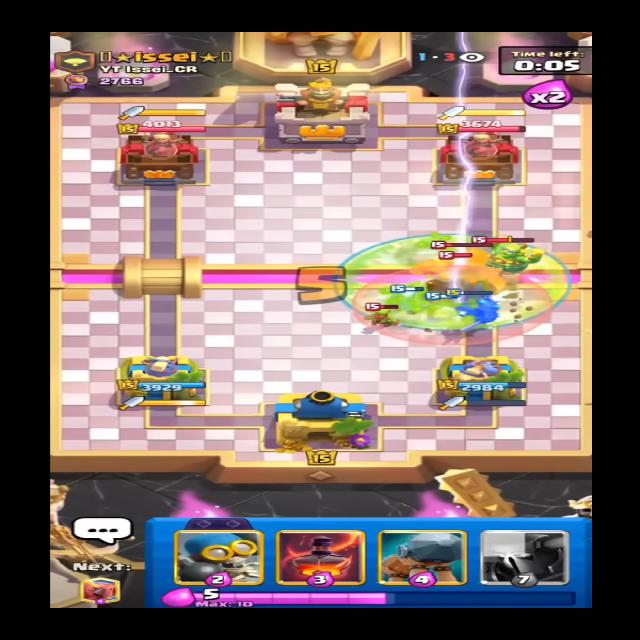goblin: (358, 300, 402, 328)
goblin-demolisher: (477, 229, 548, 278)
zap: (444, 25, 472, 302)
